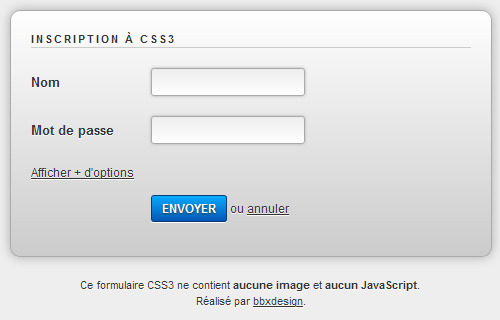_form_: (1, 1, 416, 320)
button: (149, 194, 228, 224)
field: (149, 115, 306, 145), (150, 67, 306, 97)
field_with_label: (31, 113, 308, 146), (31, 65, 307, 98)
